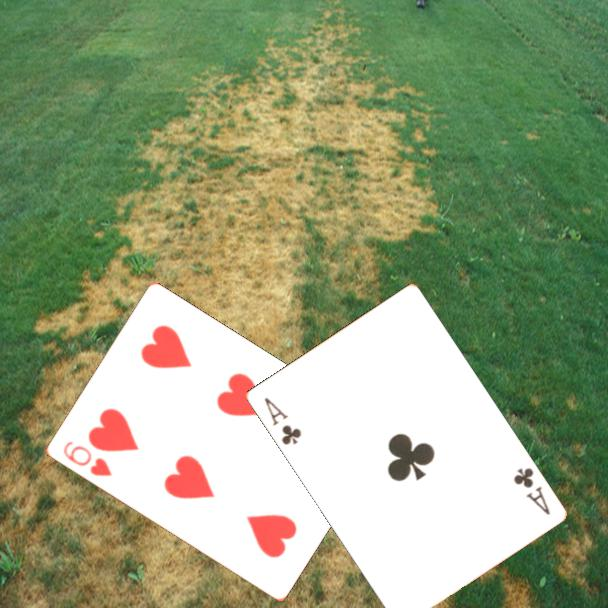c01: (260, 394, 304, 448), (510, 464, 553, 518)
h06: (59, 437, 115, 479)
